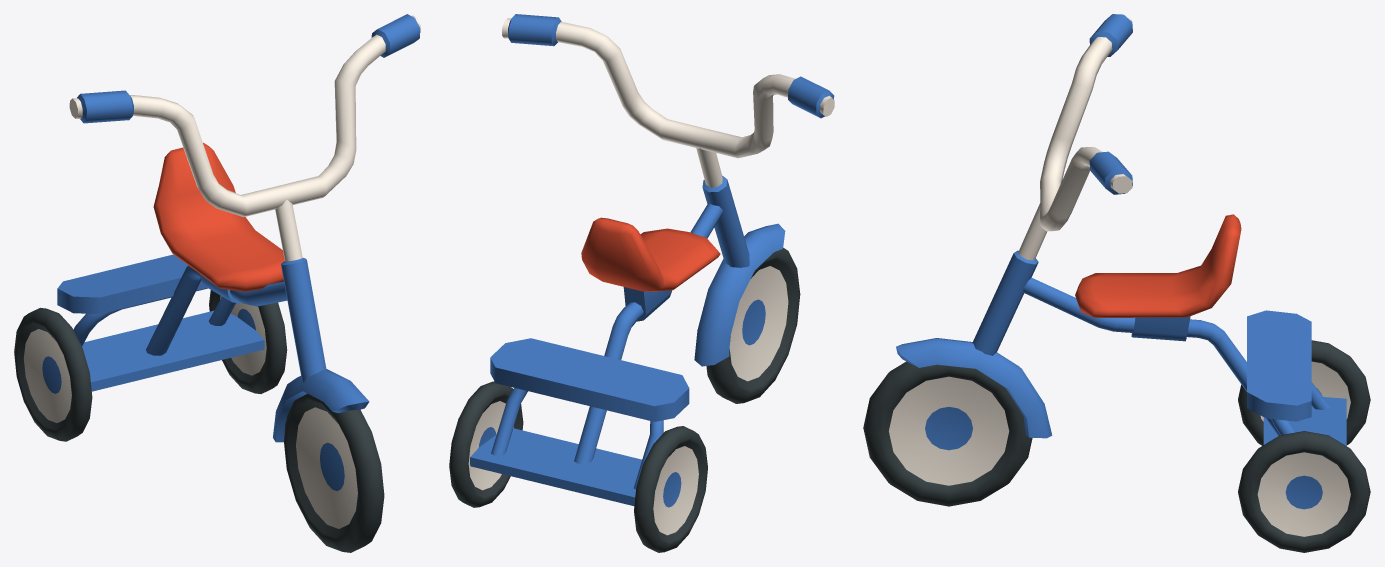
The model's file is Tricycle_01.fbx.
The picture shows the model from 3 angles, left to right: view 1: azimuth 30°, elevation 25°; view 2: azimuth 150°, elevation 25°; view 3: azimuth 270°, elevation 25°; orthographic projection. The views are drawn at different scales.
Parts seen in each view (by area): view 1: Tricycle_01, Tricycle_01_Handlebar; view 2: Tricycle_01, Tricycle_01_Handlebar; view 3: Tricycle_01, Tricycle_01_Handlebar.
Boxes of the visible parts, box(x1,y1,x2,y2) form: Tricycle_01: box(14, 142, 287, 441); Tricycle_01_Handlebar: box(69, 14, 420, 552); Tricycle_01: box(449, 203, 722, 552); Tricycle_01_Handlebar: box(502, 14, 834, 403); Tricycle_01: box(1023, 214, 1370, 552); Tricycle_01_Handlebar: box(863, 14, 1132, 506).
Bounding box in the file's own units: 0.6593 × 0.7851 × 0.8718.
